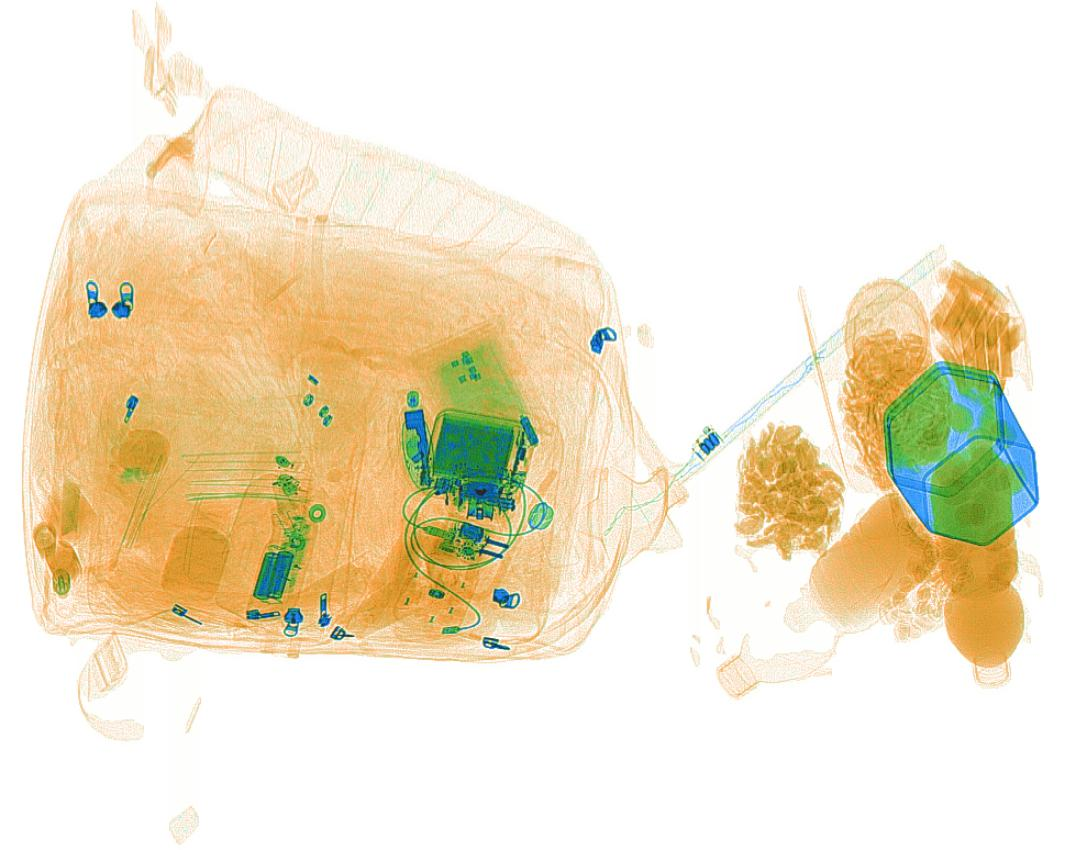battery: (250, 547, 295, 602)
